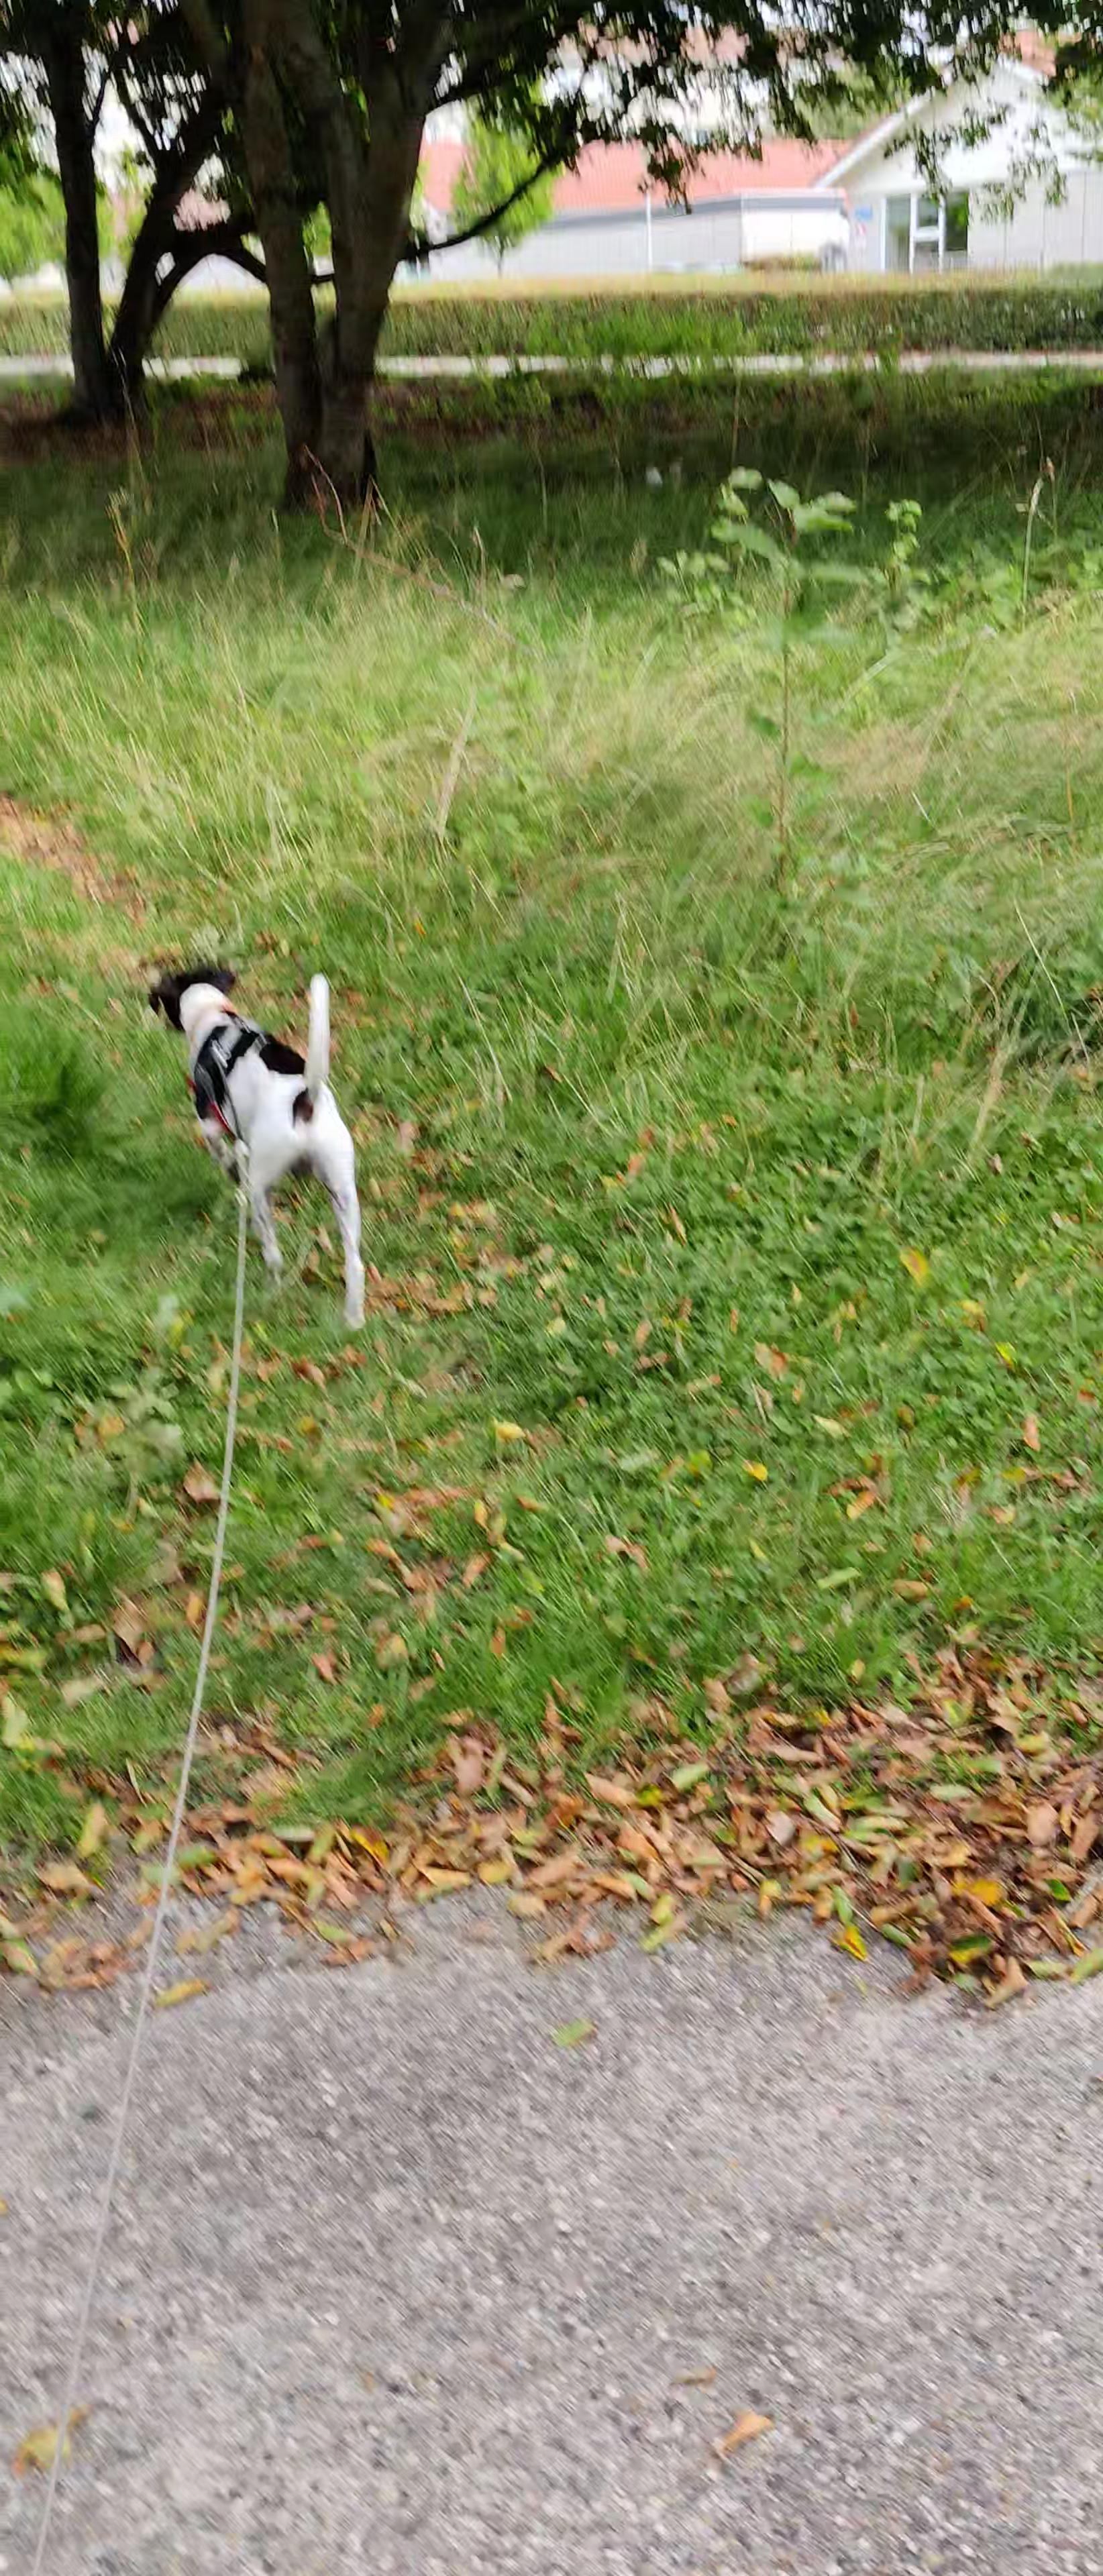Dog: (133, 935, 373, 1359)
